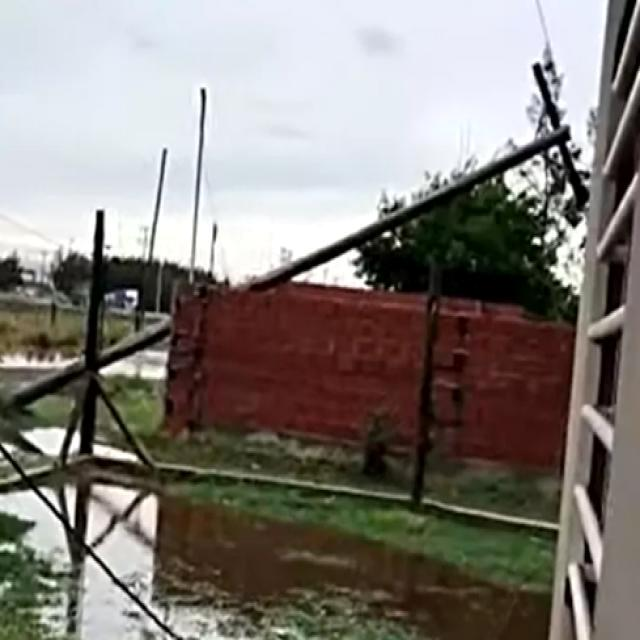Broken Pole: (9, 56, 592, 413)
